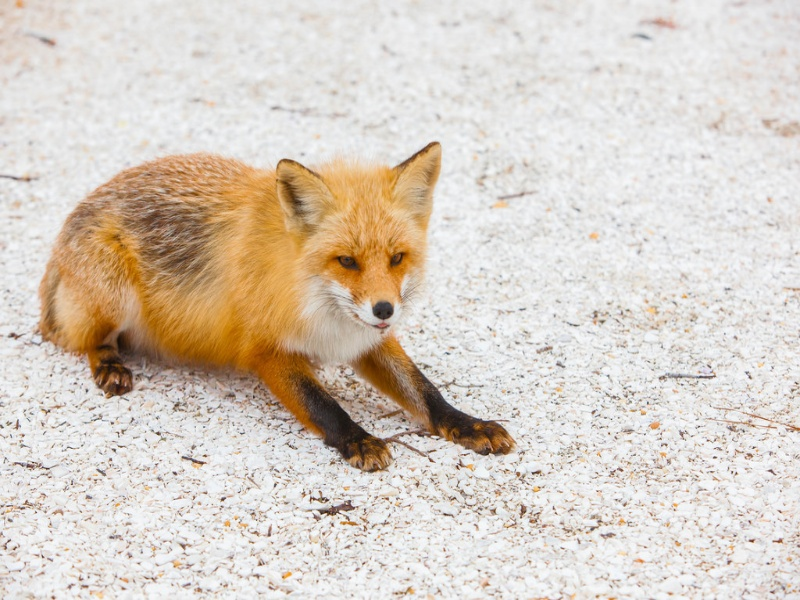fox: (32, 133, 520, 478)
